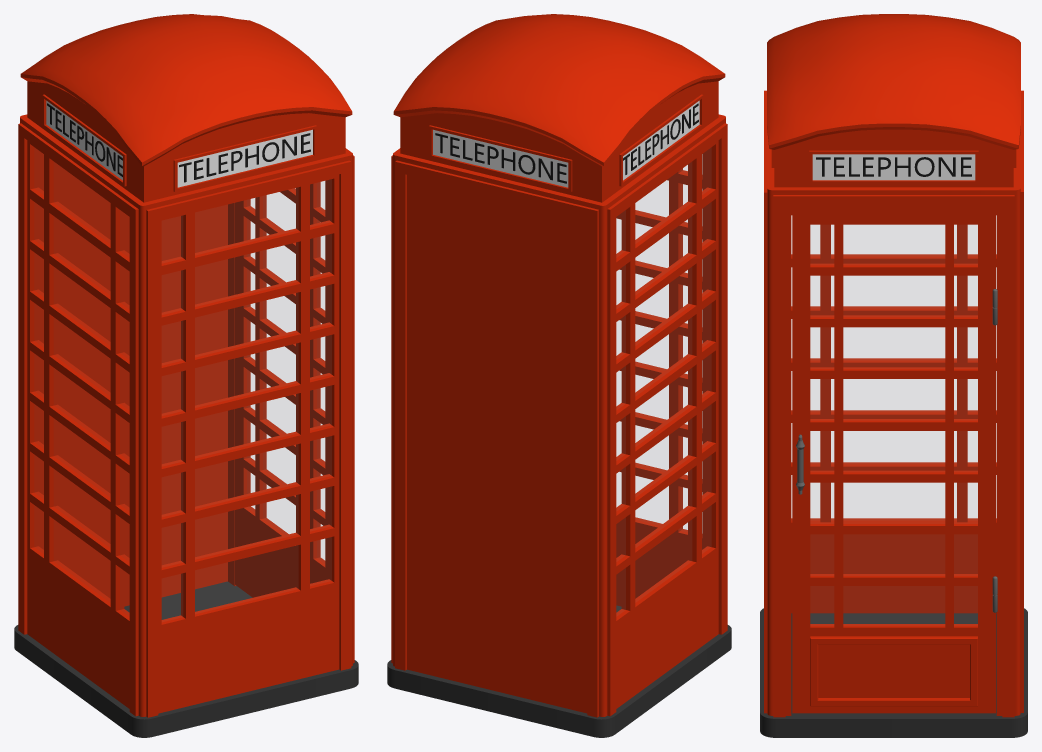
The model's file is phonestation.fbx.
3 renders of one model, left to right at view 1: azimuth 30°, elevation 25°; view 2: azimuth 150°, elevation 25°; view 3: azimuth 270°, elevation 25°, orthographic. The views are drawn at different scales.
Parts seen in each view (by area): view 1: Phone Box, Cube.002, door, Text.001, Text; view 2: Phone Box, Cube.002, Text.003, Text; view 3: Phone Box, door, Cube.002, Text.002.
Boxes of the visible parts, x1,y1,x2,y2 form: Phone Box: (14,114,358,737); Cube.002: (20,14,352,202); door: (235,180,329,597); Text.001: (179,133,310,182); Text: (47,103,122,176); Phone Box: (387,114,731,737); Cube.002: (393,14,725,202); Text.003: (435,133,566,183); Text: (623,103,698,174); Phone Box: (760,90,1027,737); door: (792,209,995,713); Cube.002: (767,14,1020,187); Text.002: (816,157,971,176).
Size of the model in its own units: 227 by 593 by 224.
